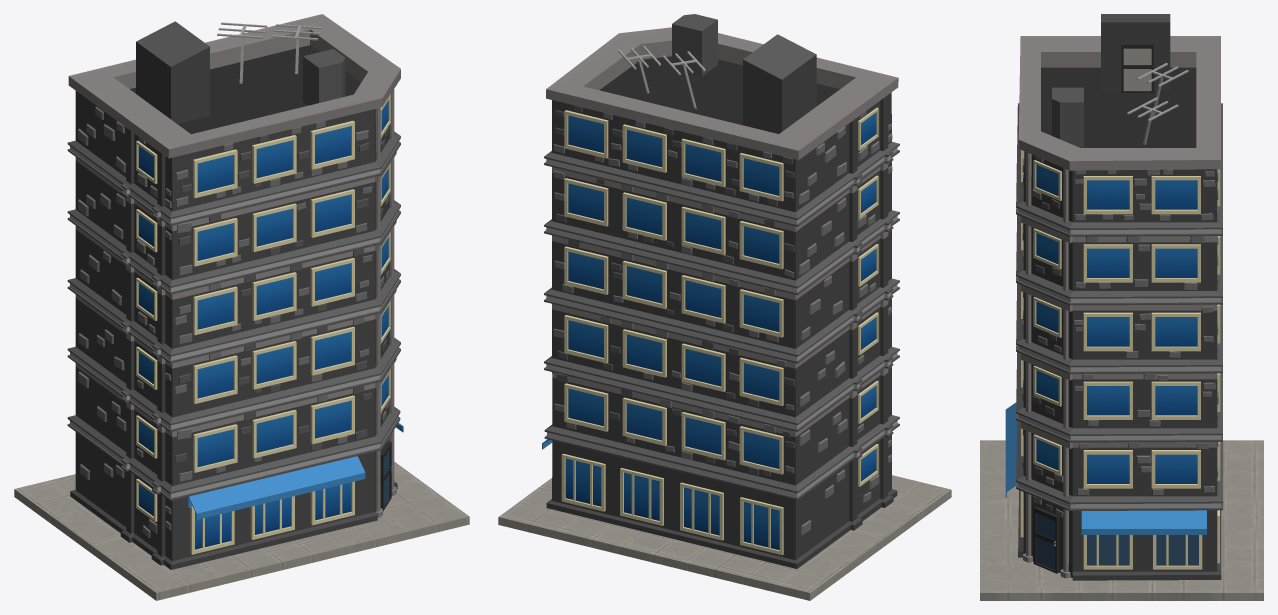
The model's file is House_13.fbx.
The picture shows the model from 3 angles, left to right: view 1: azimuth 30°, elevation 25°; view 2: azimuth 150°, elevation 25°; view 3: azimuth 270°, elevation 25°; orthographic projection.
Parts seen in each view (by area): view 1: House_13; view 2: House_13; view 3: House_13.
Part boxes in pixels (x1=…): House_13: x1=14, y1=14, x2=469, y2=600; House_13: x1=498, y1=14, x2=951, y2=600; House_13: x1=980, y1=14, x2=1263, y2=600.
Bounding box in the file's own units: 2100 × 3088 × 1650.
